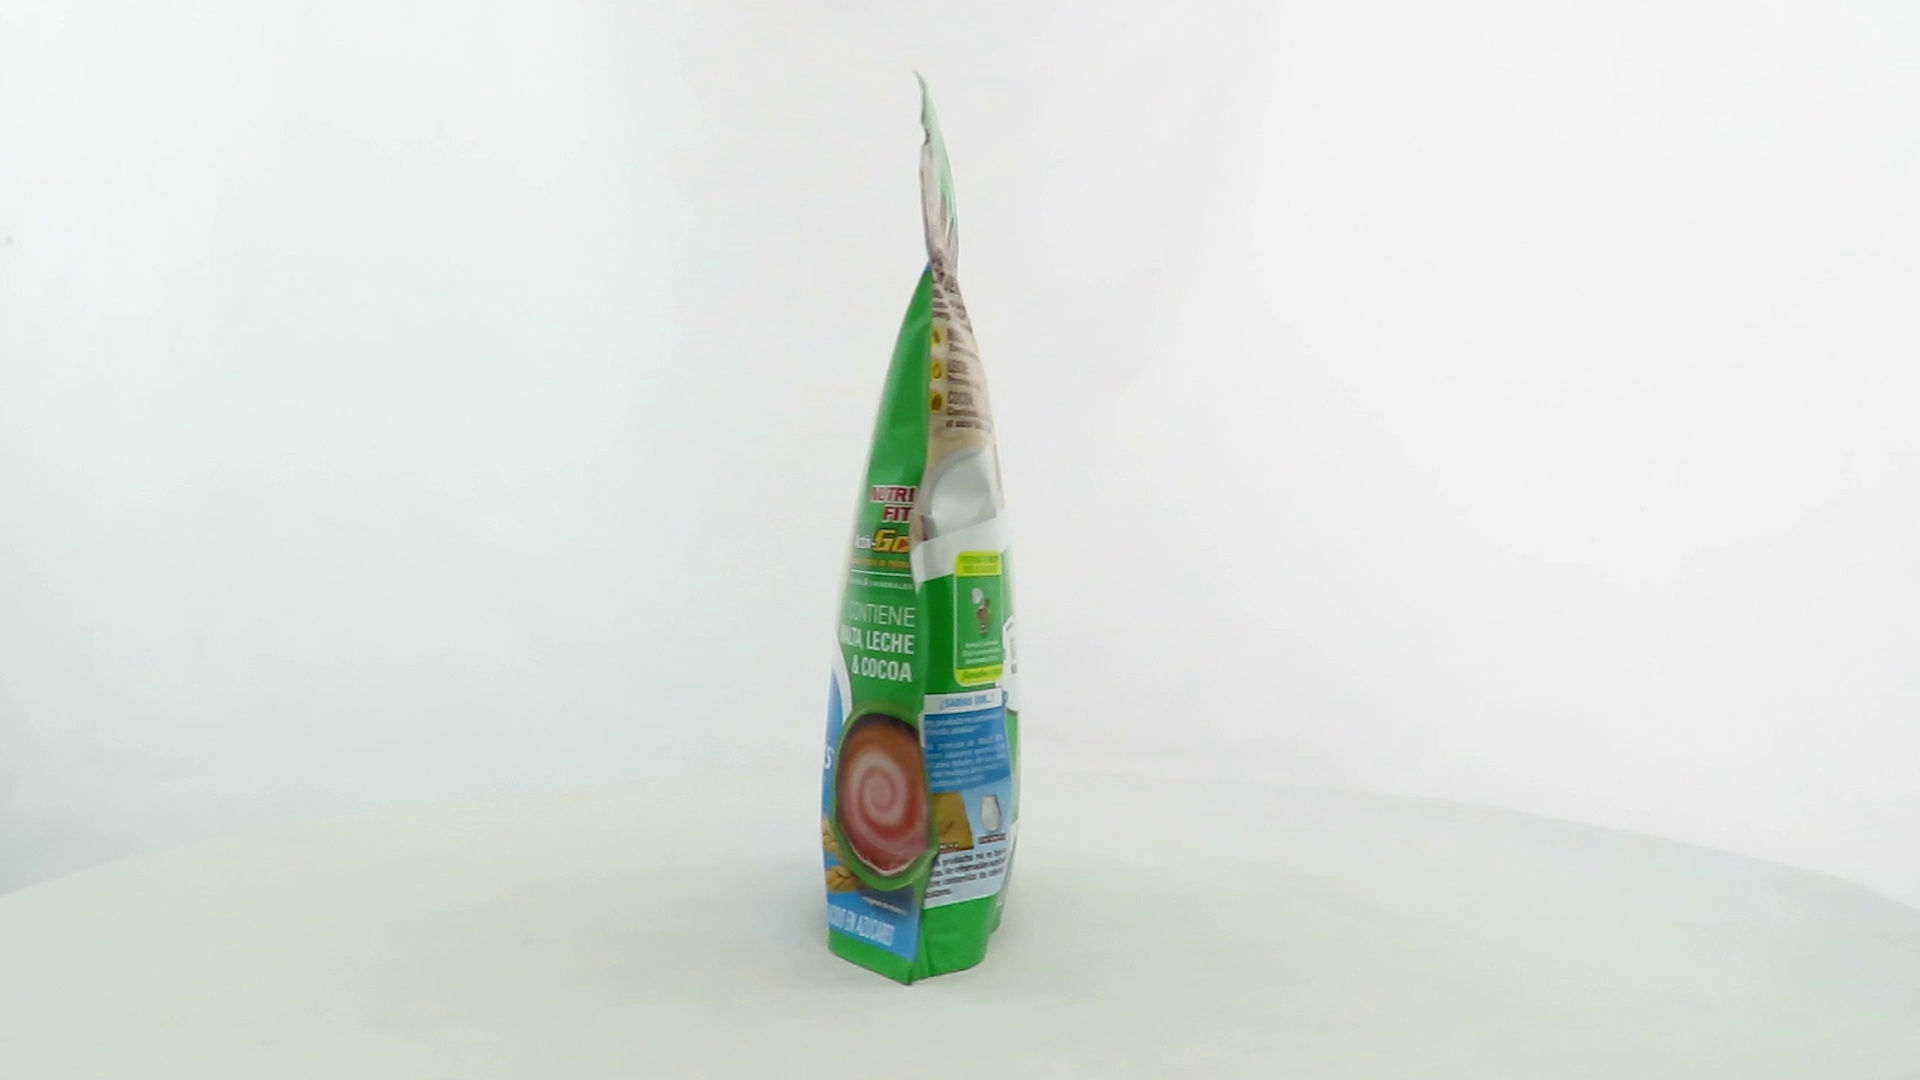COL0170205DYP20000: (815, 65, 1029, 992)
